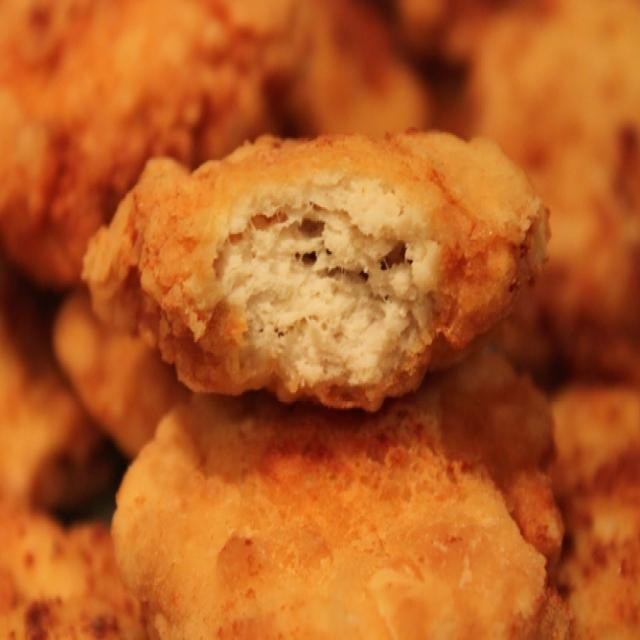鸡肉料理 含炸鸡: (5, 9, 616, 629)
